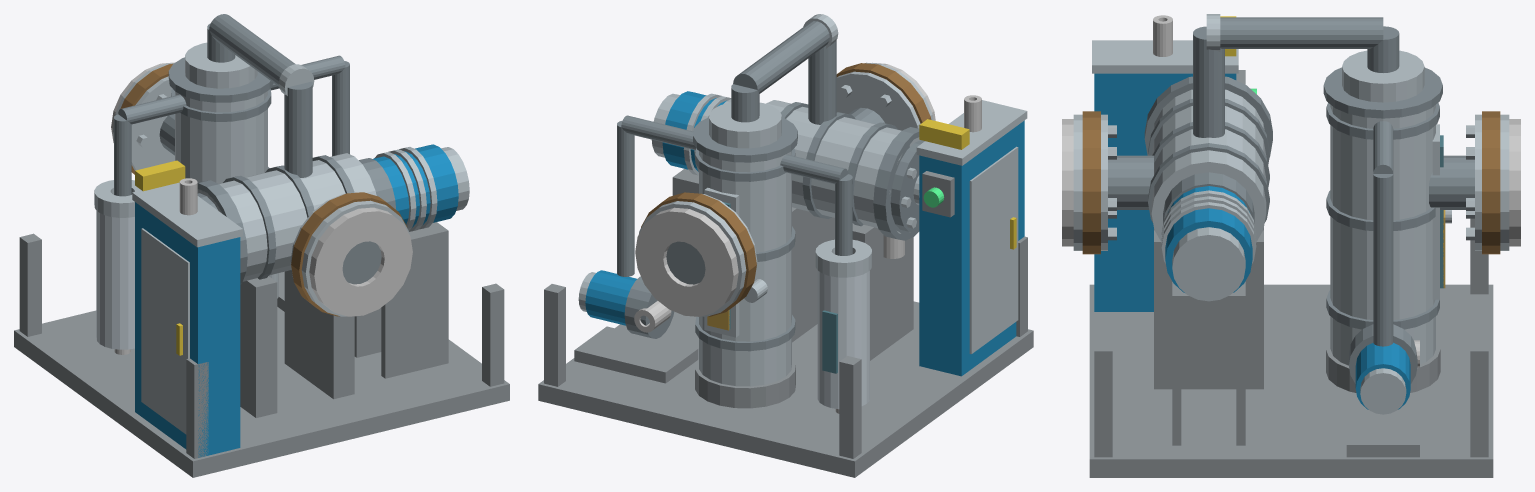
Rendered from body.obj.
3 views of the same model, side by side, from view 1: azimuth 30°, elevation 25°; view 2: azimuth 150°, elevation 25°; view 3: azimuth 270°, elevation 25° (orthographic). The views are drawn at different scales.
Size of the model in its own units: 0.9 by 0.902 by 1.
